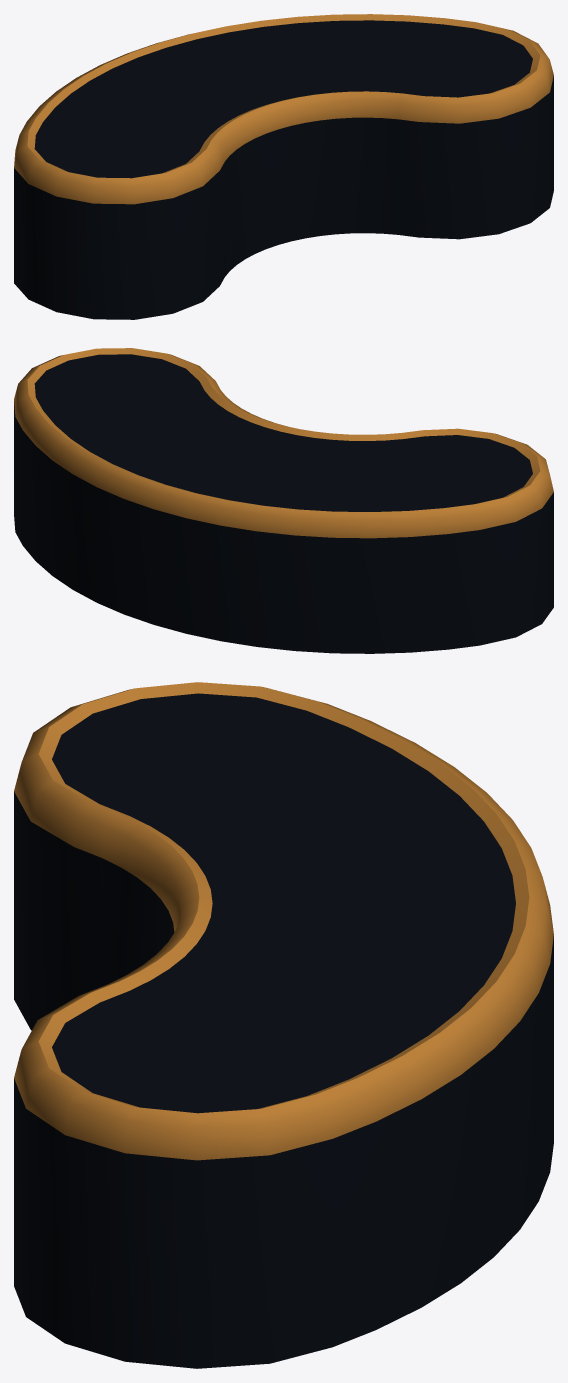
The model's file is overdrive-walls.dae.
3 views of the same model, one above another, from view 1: azimuth 30°, elevation 25°; view 2: azimuth 150°, elevation 25°; view 3: azimuth 270°, elevation 25° (orthographic). The views are drawn at different scales.
Visible parts, largest first — view 1: cabinet_shell, accent; view 2: cabinet_shell, accent; view 3: cabinet_shell, accent.
Part boxes in pixels (left/top/right/bottom): cabinet_shell: left=14, top=20, right=553, bottom=319; accent: left=14, top=14, right=553, bottom=204; cabinet_shell: left=14, top=354, right=553, bottom=653; accent: left=14, top=348, right=553, bottom=538; cabinet_shell: left=14, top=693, right=553, bottom=1368; accent: left=14, top=682, right=553, bottom=1160.
Bounding box in the file's own units: 0.1186 × 0.03 × 0.0599.
